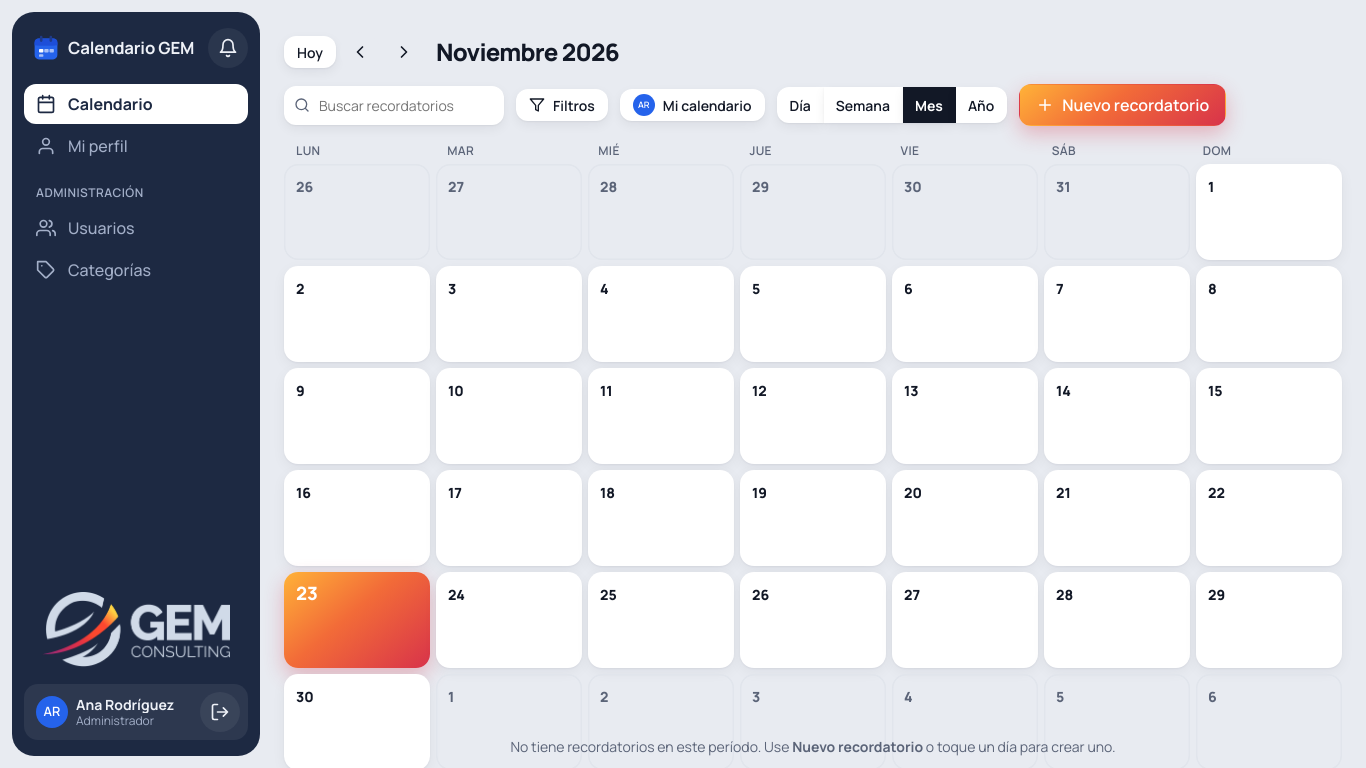
rutas protegidas › el menú lateral lleva al perfil y muestra quién inició sesión
Expected: the link "Calendario" is shown, [24,84,248,124]
Click the link "Mi perfil".
click(82, 146)  # box [36,135,128,157]
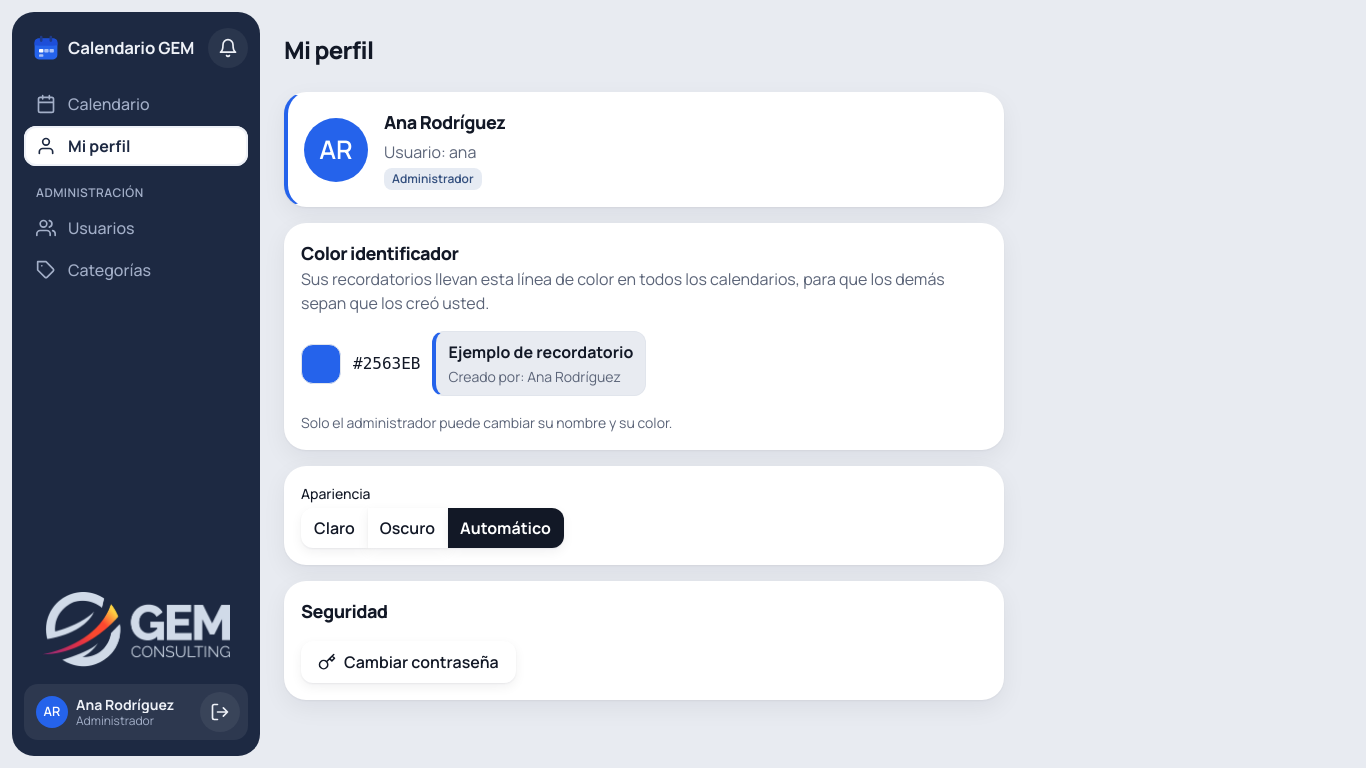
Now the heading "Mi perfil" is shown, box [284,33,373,66]
